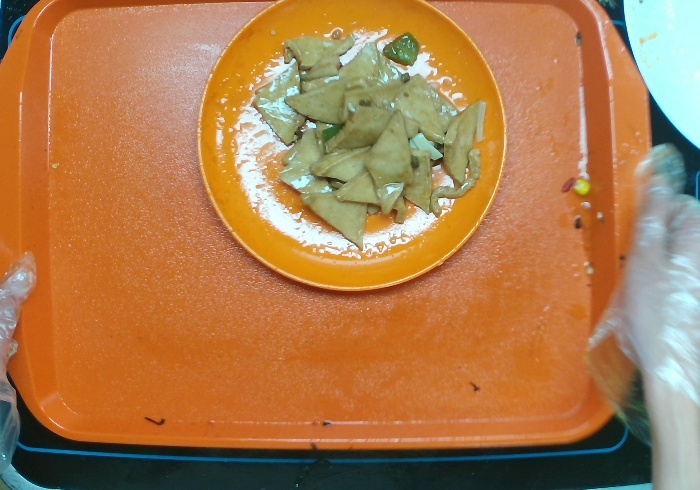HZYJPL-Ju_Huang_Yuan_Pan: (193, 1, 505, 291)
